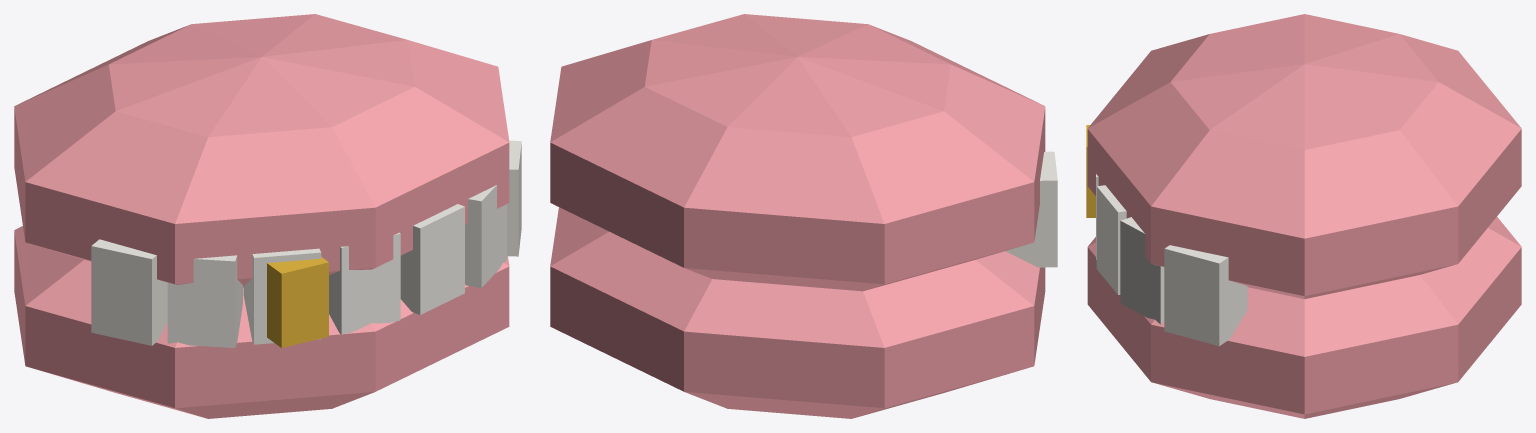
Rendered from dentures.fbx.
The picture shows the model from 3 angles, left to right: view 1: azimuth 30°, elevation 25°; view 2: azimuth 150°, elevation 25°; view 3: azimuth 270°, elevation 25°; orthographic projection. The views are drawn at different scales.
Parts seen in each view (by area): view 1: dentures; view 2: dentures; view 3: dentures.
Boxes of the visible parts, left/top/right/bottom form: dentures: left=14, top=14, right=521, bottom=418; dentures: left=550, top=14, right=1057, bottom=418; dentures: left=1086, top=14, right=1521, bottom=418.
Bounding box in the file's own units: 0.3196 × 0.206 × 0.2671.
